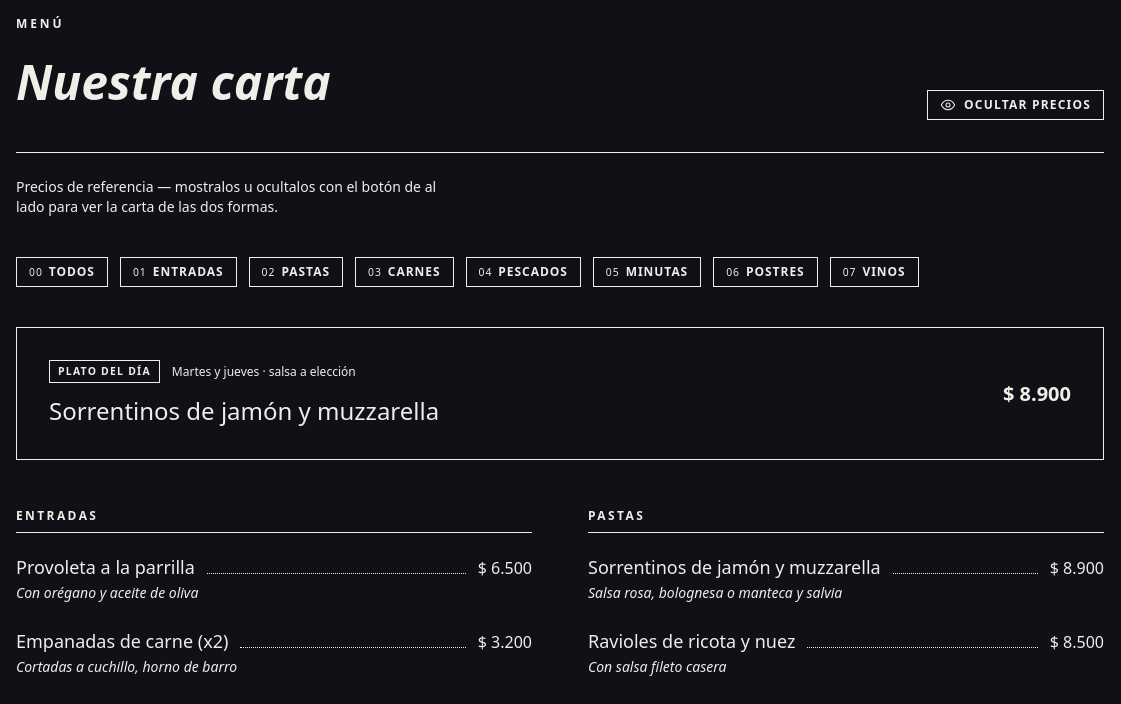
Menu (Gastronomía) › cambia de categoría al tocar otra pestaña del índice
Check: the text "Provoleta a la parrilla" is shown, box 16,553 -> 195,581
Click the button "02 Pastas". click: point(296, 272)
box: 249,257 -> 343,287
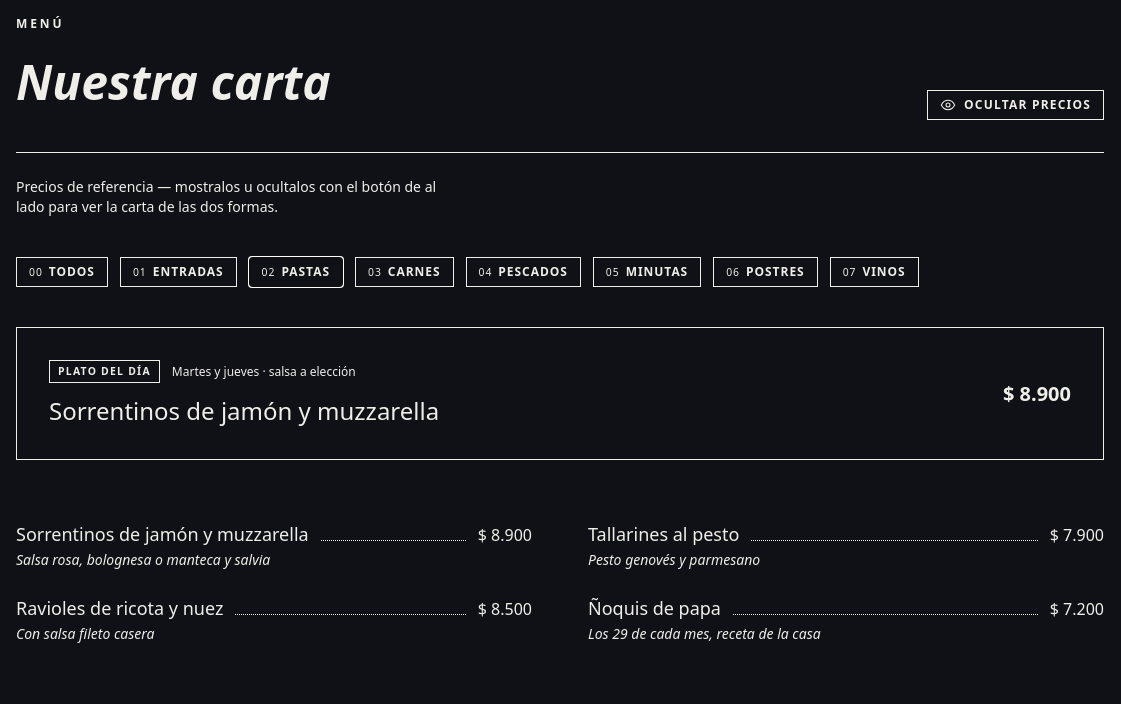
Check: the text "Ravioles de ricota y nuez" is shown, box 16,594 -> 223,622
Check: the text "Provoleta a la parrilla" is gone
